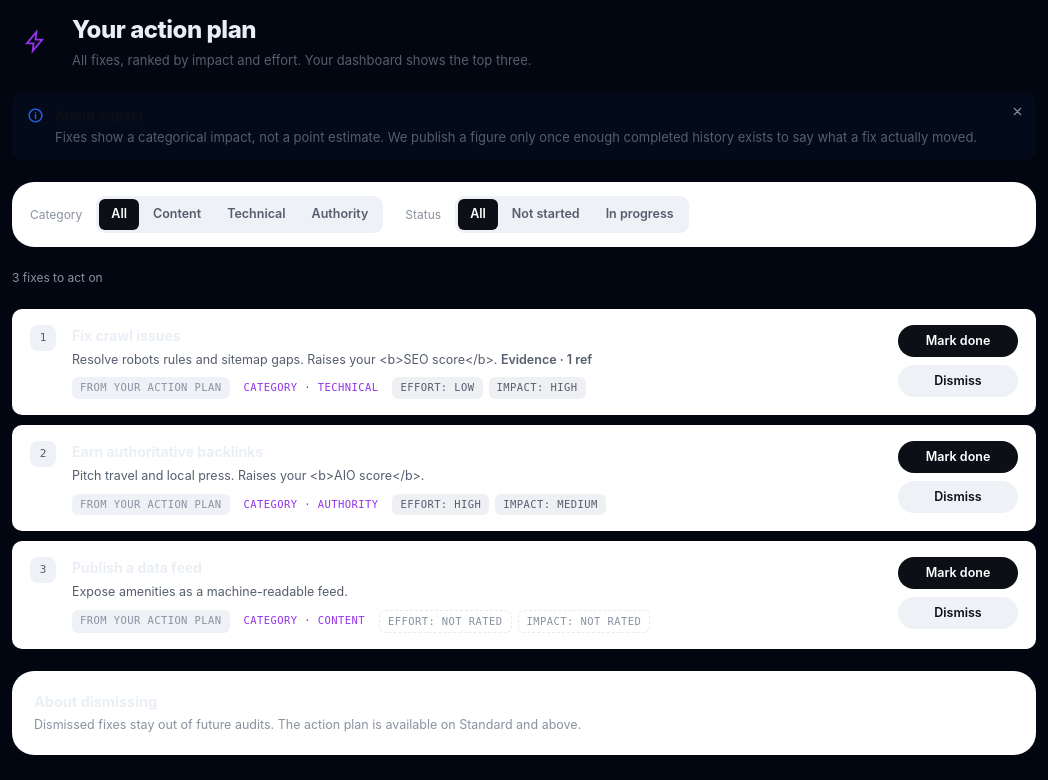
Test: fixes page › filters by category with only real classes and no Feature chip
This screenshot has width=1048, height=780.
Expected: the element with test id "fix-advisor-action-1" is shown, [12,309,1036,415]
Click the button "Authority": click(340, 215) [300,199,380,230]
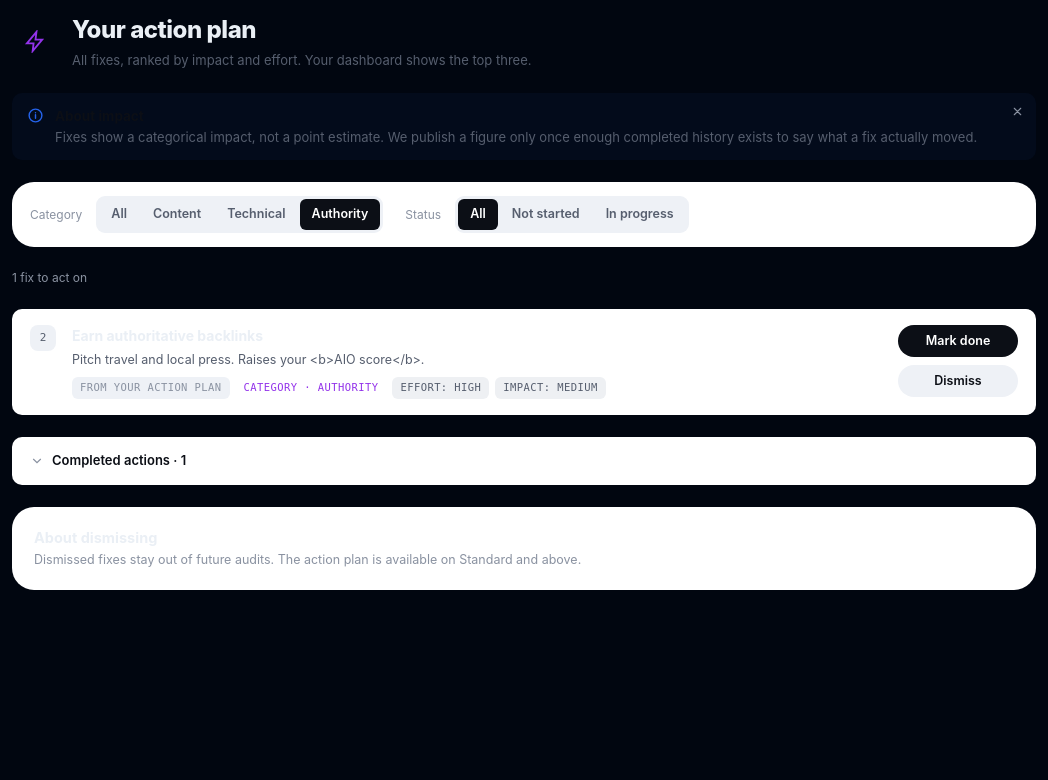
Expected: the element with test id "fix-advisor-action-3" is shown, [12,309,1036,415]
Now the element with test id "fix-advisor-action-1" is gone
Click the button "Technical": click(256, 215) [215,199,298,230]
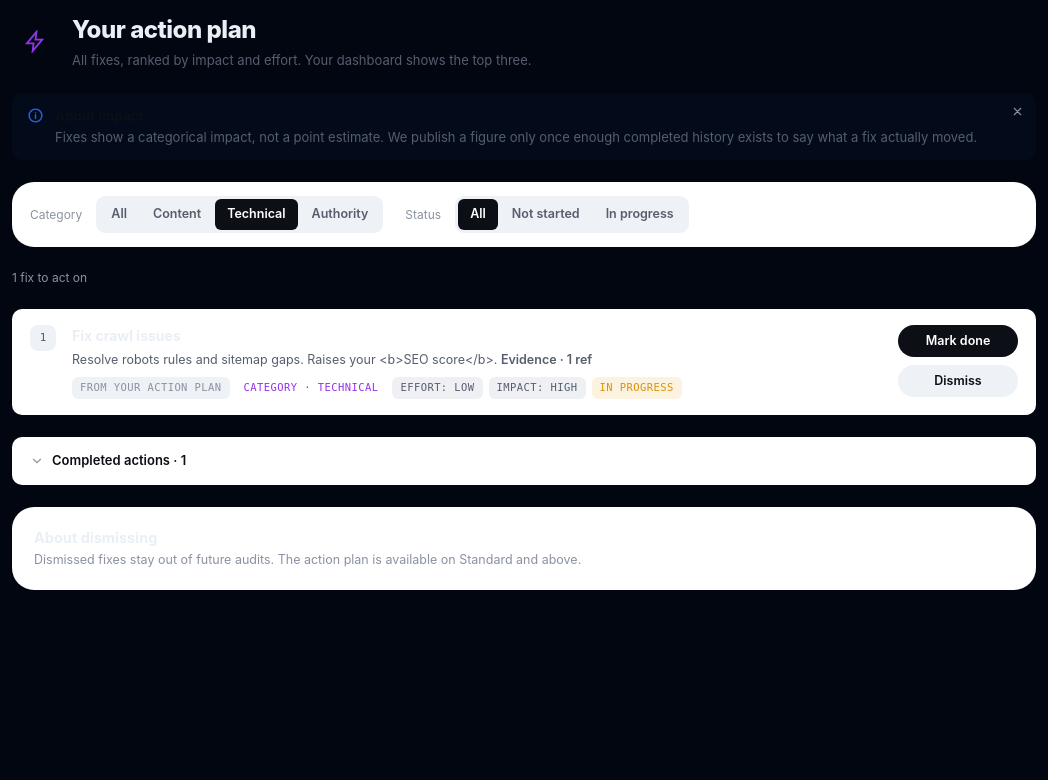
Now the element with test id "fix-advisor-action-1" is shown, box [12,309,1036,415]
Now the element with test id "fix-advisor-action-3" is gone
